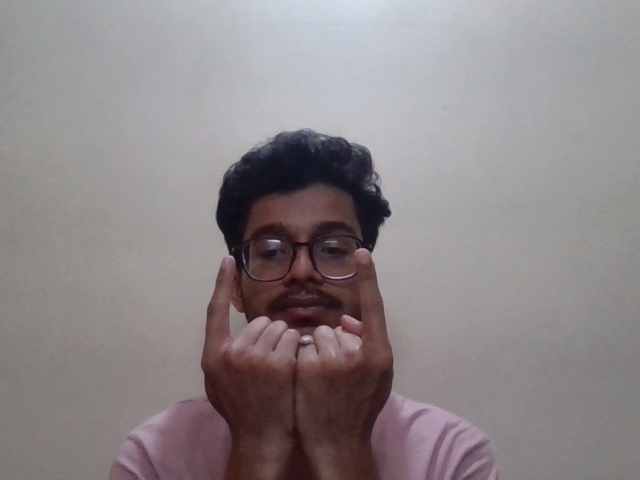when: (193, 247, 414, 437)
